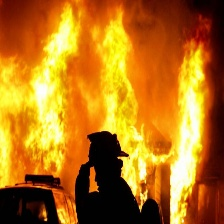fire: (1, 3, 210, 220)
